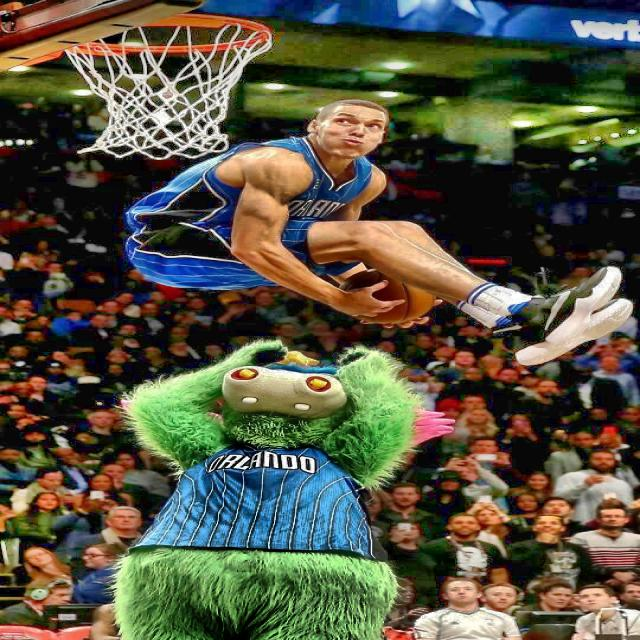rim: (72, 11, 274, 158)
